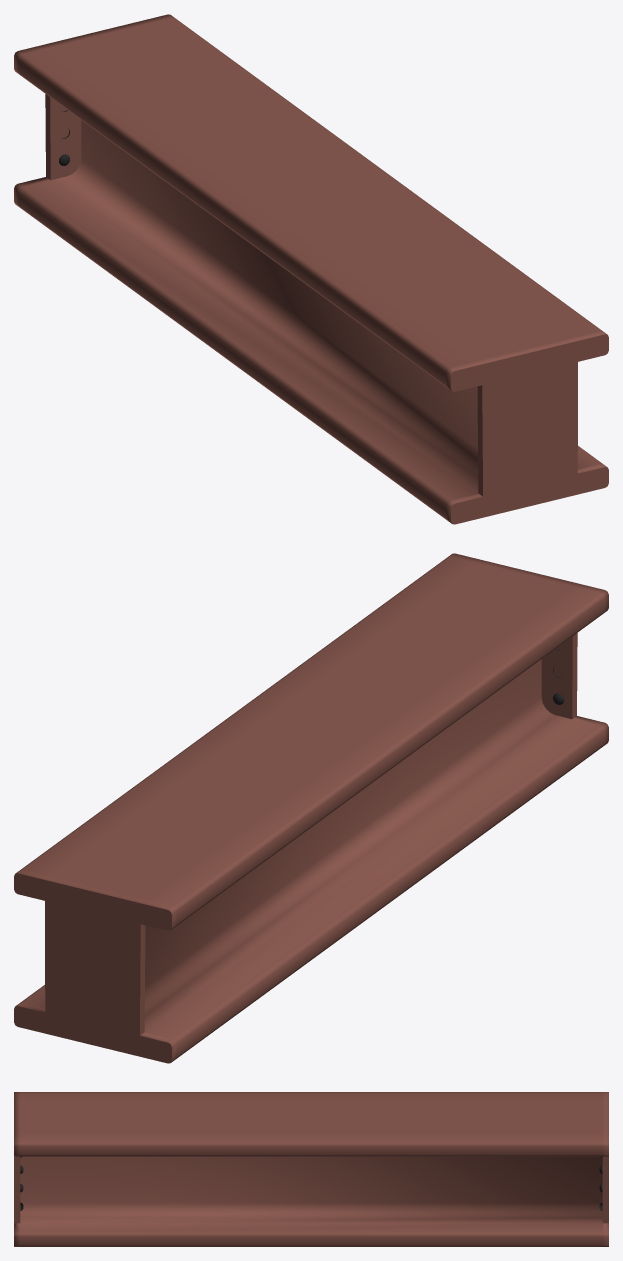
The model's file is SteelBeam.fbx.
The picture shows the model from 3 angles, top to bottom: view 1: azimuth 30°, elevation 25°; view 2: azimuth 150°, elevation 25°; view 3: azimuth 270°, elevation 25°; orthographic projection. The views are drawn at different scales.
Parts seen in each view (by area): view 1: Cube; view 2: Cube; view 3: Cube.
Boxes of the visible parts, <box> form: Cube: <box>14,14,608,524</box>; Cube: <box>14,553,608,1063</box>; Cube: <box>14,1092,608,1246</box>.
Bounding box in the file's own units: 289 × 269 × 1387.
